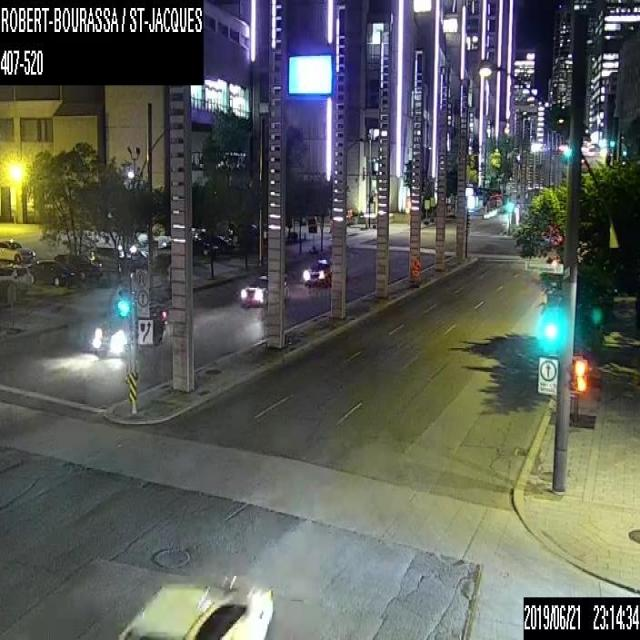construction: (409, 253, 423, 287)
vehicle: (115, 570, 273, 638), (91, 298, 166, 356), (239, 272, 289, 307), (88, 242, 136, 271), (25, 259, 75, 286), (302, 257, 347, 287), (56, 253, 100, 280), (0, 239, 35, 261), (0, 262, 29, 287), (131, 247, 150, 269)
